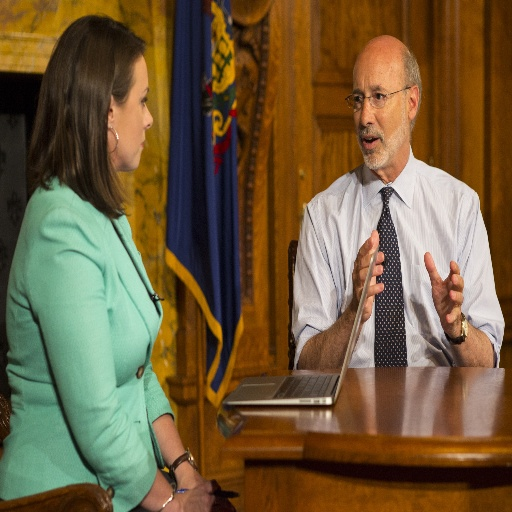hand: (350, 227, 383, 322), (423, 249, 460, 306), (159, 487, 214, 511), (175, 466, 211, 493)
